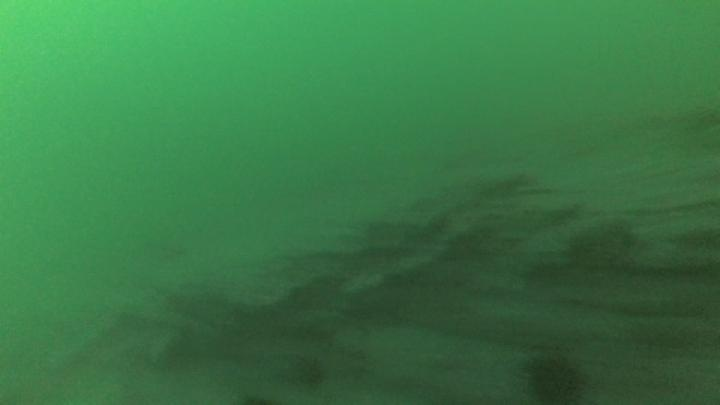echinus: (522, 350, 589, 405)
